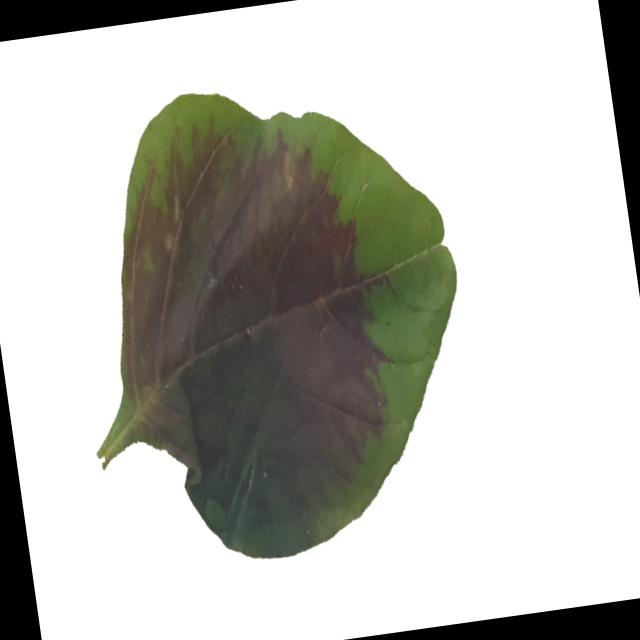Medicinal-Arive Dantu: (47, 58, 496, 584)
